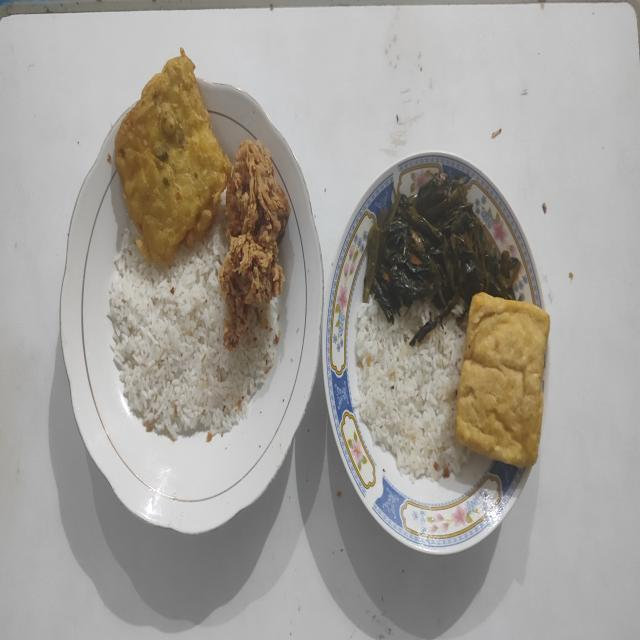nasi_putih: (108, 225, 280, 440), (352, 299, 468, 480)
tahu_goreng: (456, 293, 550, 467)
tumis_kangkung: (364, 173, 520, 346)
